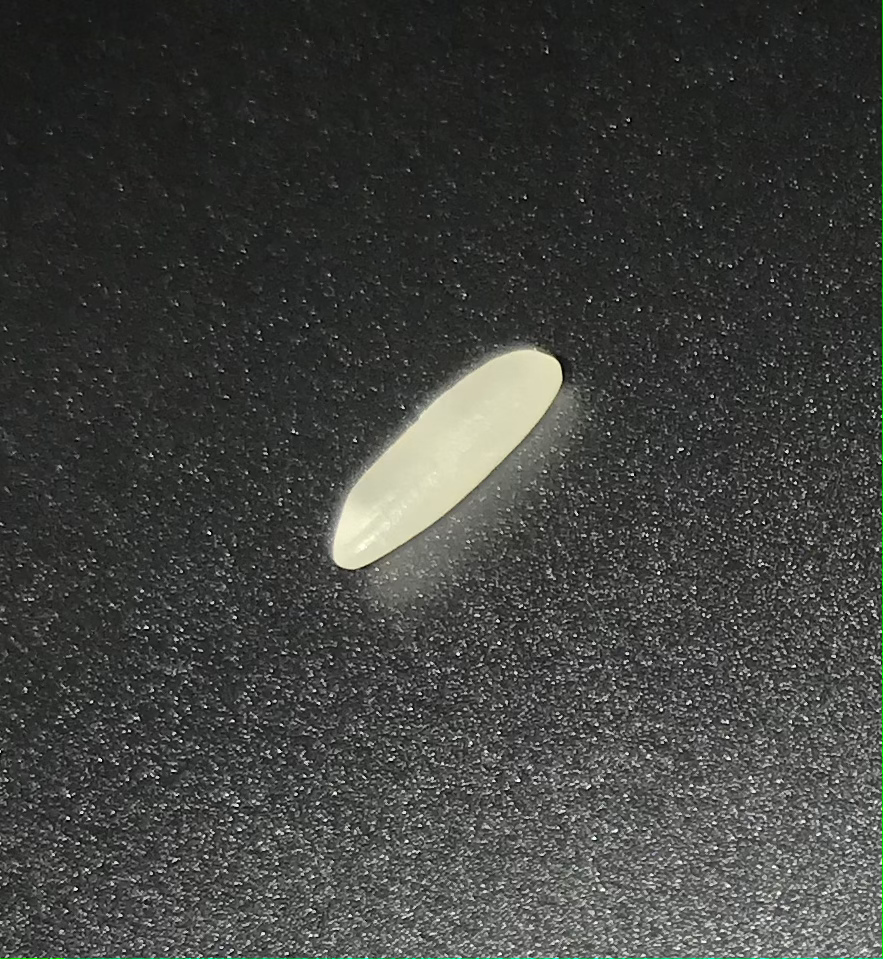Gao Thom My: (298, 323, 583, 579)
